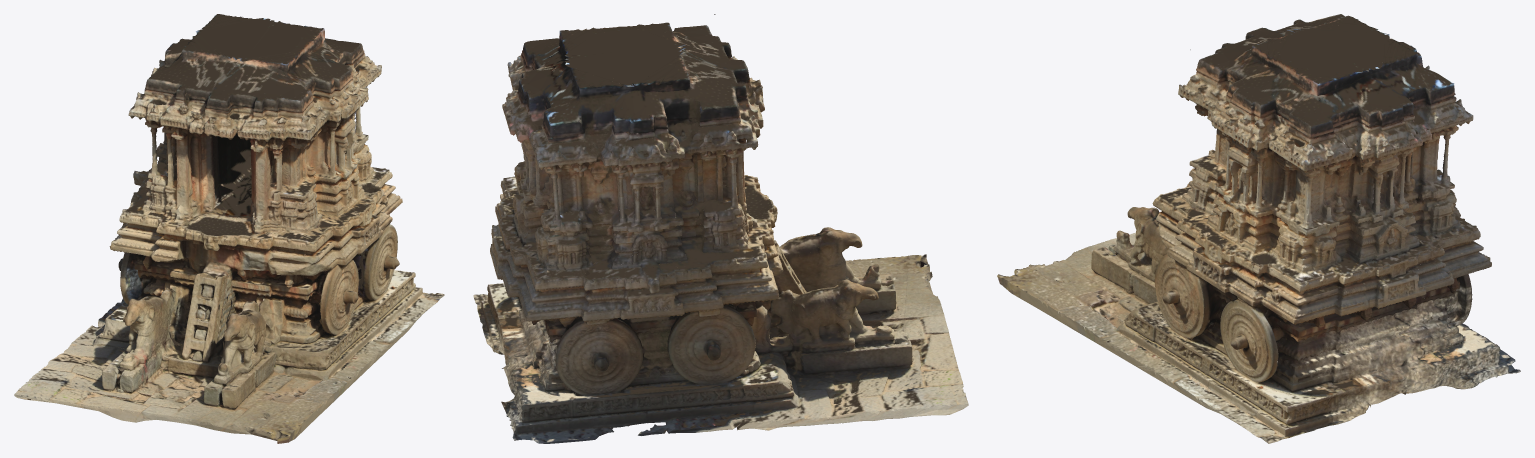
Rendered from asset.glb.
3 views of the same model, side by side, from view 1: azimuth 30°, elevation 25°; view 2: azimuth 150°, elevation 25°; view 3: azimuth 270°, elevation 25° (orthographic). The views are drawn at different scales.
Parts seen in each view (by area): view 1: GeometryNode_3_0, GeometryNode_47_0, GeometryNode_57_0, GeometryNode_27_0, GeometryNode_17_0, GeometryNode_37_0, GeometryNode_67_0, GeometryNode_57_1, GeometryNode_47_1, GeometryNode_27_1, GeometryNode_17_1, GeometryNode_3_1 (+1 smaller); view 2: GeometryNode_3_0, GeometryNode_17_0, GeometryNode_37_0, GeometryNode_27_0, GeometryNode_57_0, GeometryNode_47_0, GeometryNode_3_1, GeometryNode_17_1, GeometryNode_37_1, GeometryNode_57_1, GeometryNode_27_1, GeometryNode_47_1 (+1 smaller); view 3: GeometryNode_3_0, GeometryNode_17_0, GeometryNode_47_0, GeometryNode_27_0, GeometryNode_37_0, GeometryNode_67_0, GeometryNode_47_1, GeometryNode_57_0, GeometryNode_17_1, GeometryNode_3_1, GeometryNode_37_1, GeometryNode_27_1 (+1 smaller).
Part boxes in pixels (bbox=[...]): GeometryNode_3_0: bbox=[18, 14, 443, 443]; GeometryNode_47_0: bbox=[108, 15, 433, 437]; GeometryNode_57_0: bbox=[14, 71, 379, 397]; GeometryNode_27_0: bbox=[106, 18, 381, 391]; GeometryNode_17_0: bbox=[14, 155, 402, 425]; GeometryNode_37_0: bbox=[63, 107, 371, 406]; GeometryNode_67_0: bbox=[191, 31, 444, 347]; GeometryNode_57_1: bbox=[26, 67, 378, 396]; GeometryNode_47_1: bbox=[113, 38, 427, 438]; GeometryNode_27_1: bbox=[109, 18, 381, 370]; GeometryNode_17_1: bbox=[15, 157, 400, 419]; GeometryNode_3_1: bbox=[15, 14, 441, 440]; GeometryNode_3_0: bbox=[473, 22, 960, 424]; GeometryNode_17_0: bbox=[491, 166, 968, 443]; GeometryNode_37_0: bbox=[490, 141, 849, 428]; GeometryNode_27_0: bbox=[491, 30, 896, 443]; GeometryNode_57_0: bbox=[533, 25, 968, 441]; GeometryNode_47_0: bbox=[475, 28, 948, 440]; GeometryNode_3_1: bbox=[478, 24, 929, 398]; GeometryNode_17_1: bbox=[491, 172, 967, 442]; GeometryNode_37_1: bbox=[491, 142, 849, 429]; GeometryNode_57_1: bbox=[534, 14, 950, 440]; GeometryNode_27_1: bbox=[493, 32, 893, 440]; GeometryNode_47_1: bbox=[475, 30, 945, 440]; GeometryNode_3_0: bbox=[997, 14, 1476, 442]; GeometryNode_17_0: bbox=[1129, 186, 1520, 391]; GeometryNode_47_0: bbox=[1016, 19, 1512, 439]; GeometryNode_27_0: bbox=[1127, 34, 1513, 383]; GeometryNode_37_0: bbox=[1071, 148, 1427, 382]; GeometryNode_67_0: bbox=[1138, 25, 1520, 443]; GeometryNode_47_1: bbox=[1016, 23, 1515, 436]; GeometryNode_57_0: bbox=[1080, 15, 1510, 364]; GeometryNode_17_1: bbox=[1129, 192, 1517, 390]; GeometryNode_3_1: bbox=[999, 17, 1472, 438]; GeometryNode_37_1: bbox=[1074, 150, 1428, 381]; GeometryNode_27_1: bbox=[1128, 63, 1510, 381].
Size of the model in its own units: 36.72 by 23.19 by 34.45.
Materials: 1 (1 with a texture image).
